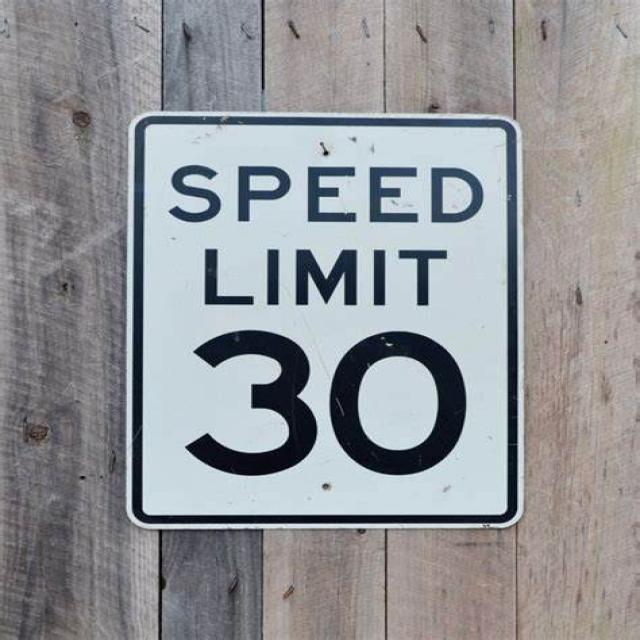speedLimit30: (124, 106, 516, 527)
